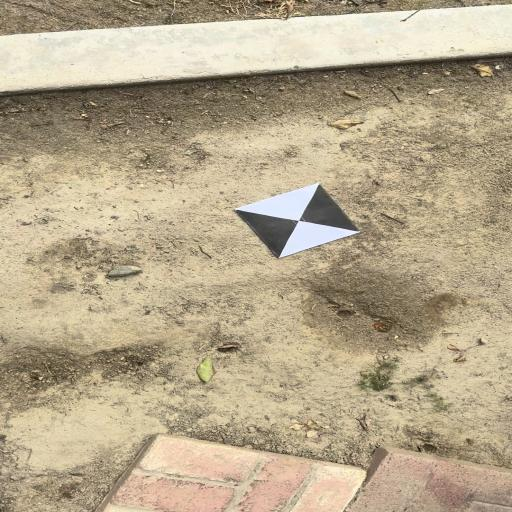target: (235, 183, 361, 258)
